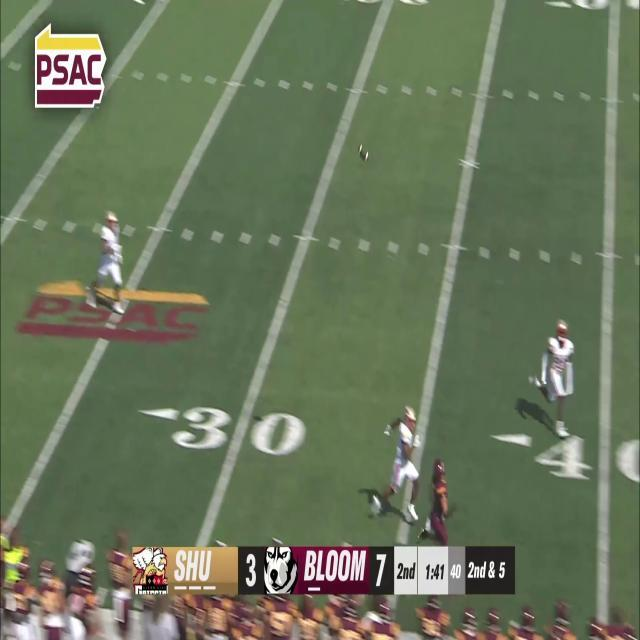football: (356, 142, 372, 163)
